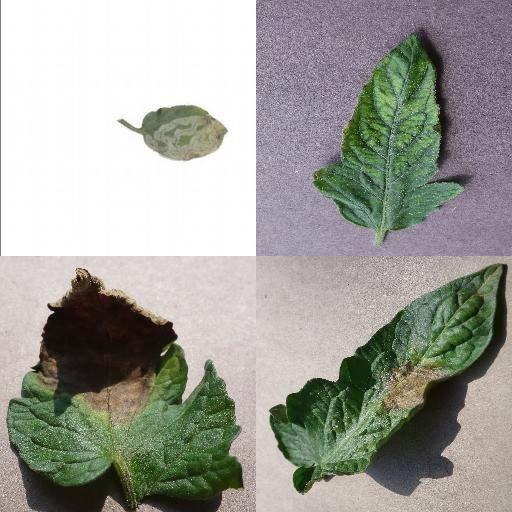Late Blight: (8, 265, 246, 501), (270, 263, 506, 497)
Leaf Miner: (139, 107, 227, 164)
Mosaic Virus: (311, 32, 471, 232)
